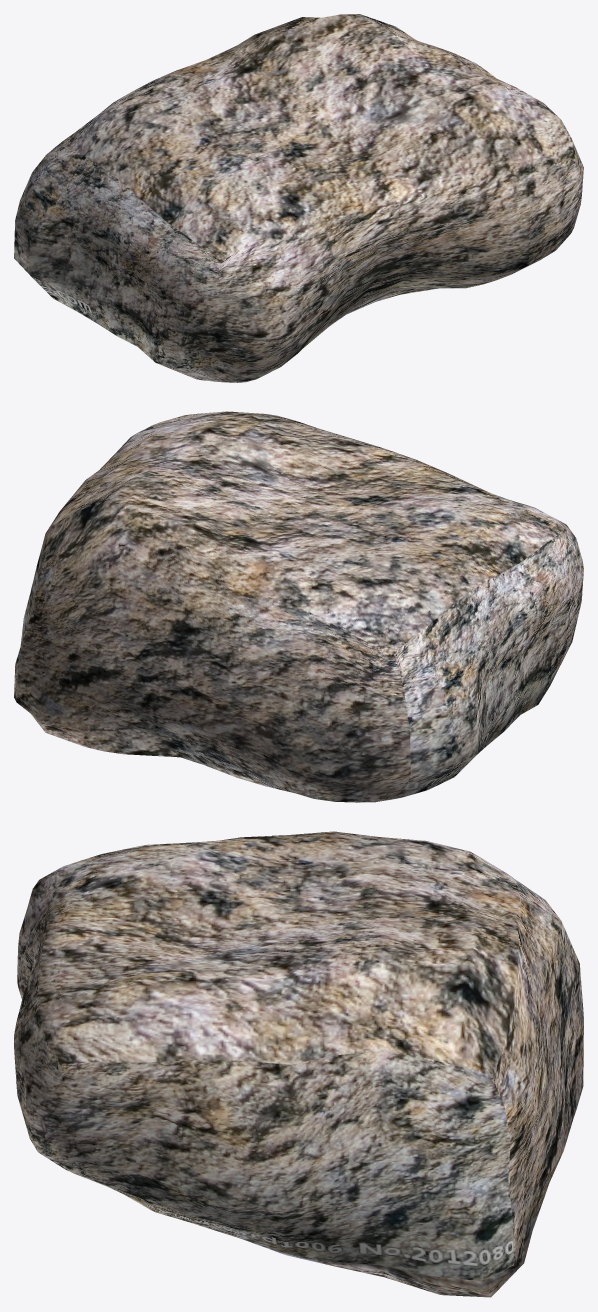
Rendered from rock 1.fbx.
3 renders of one model, top to bottom at view 1: azimuth 30°, elevation 25°; view 2: azimuth 150°, elevation 25°; view 3: azimuth 270°, elevation 25°, orthographic. The views are drawn at different scales.
Visible parts, largest first — view 1: pCube1; view 2: pCube1; view 3: pCube1.
Boxes of the visible parts, <box> form: pCube1: <box>14,14,583,382</box>; pCube1: <box>14,411,583,802</box>; pCube1: <box>14,831,583,1297</box>.
Size of the model in its own units: 30.25 by 15.78 by 25.71.
Materials: 1 (1 with a texture image).
